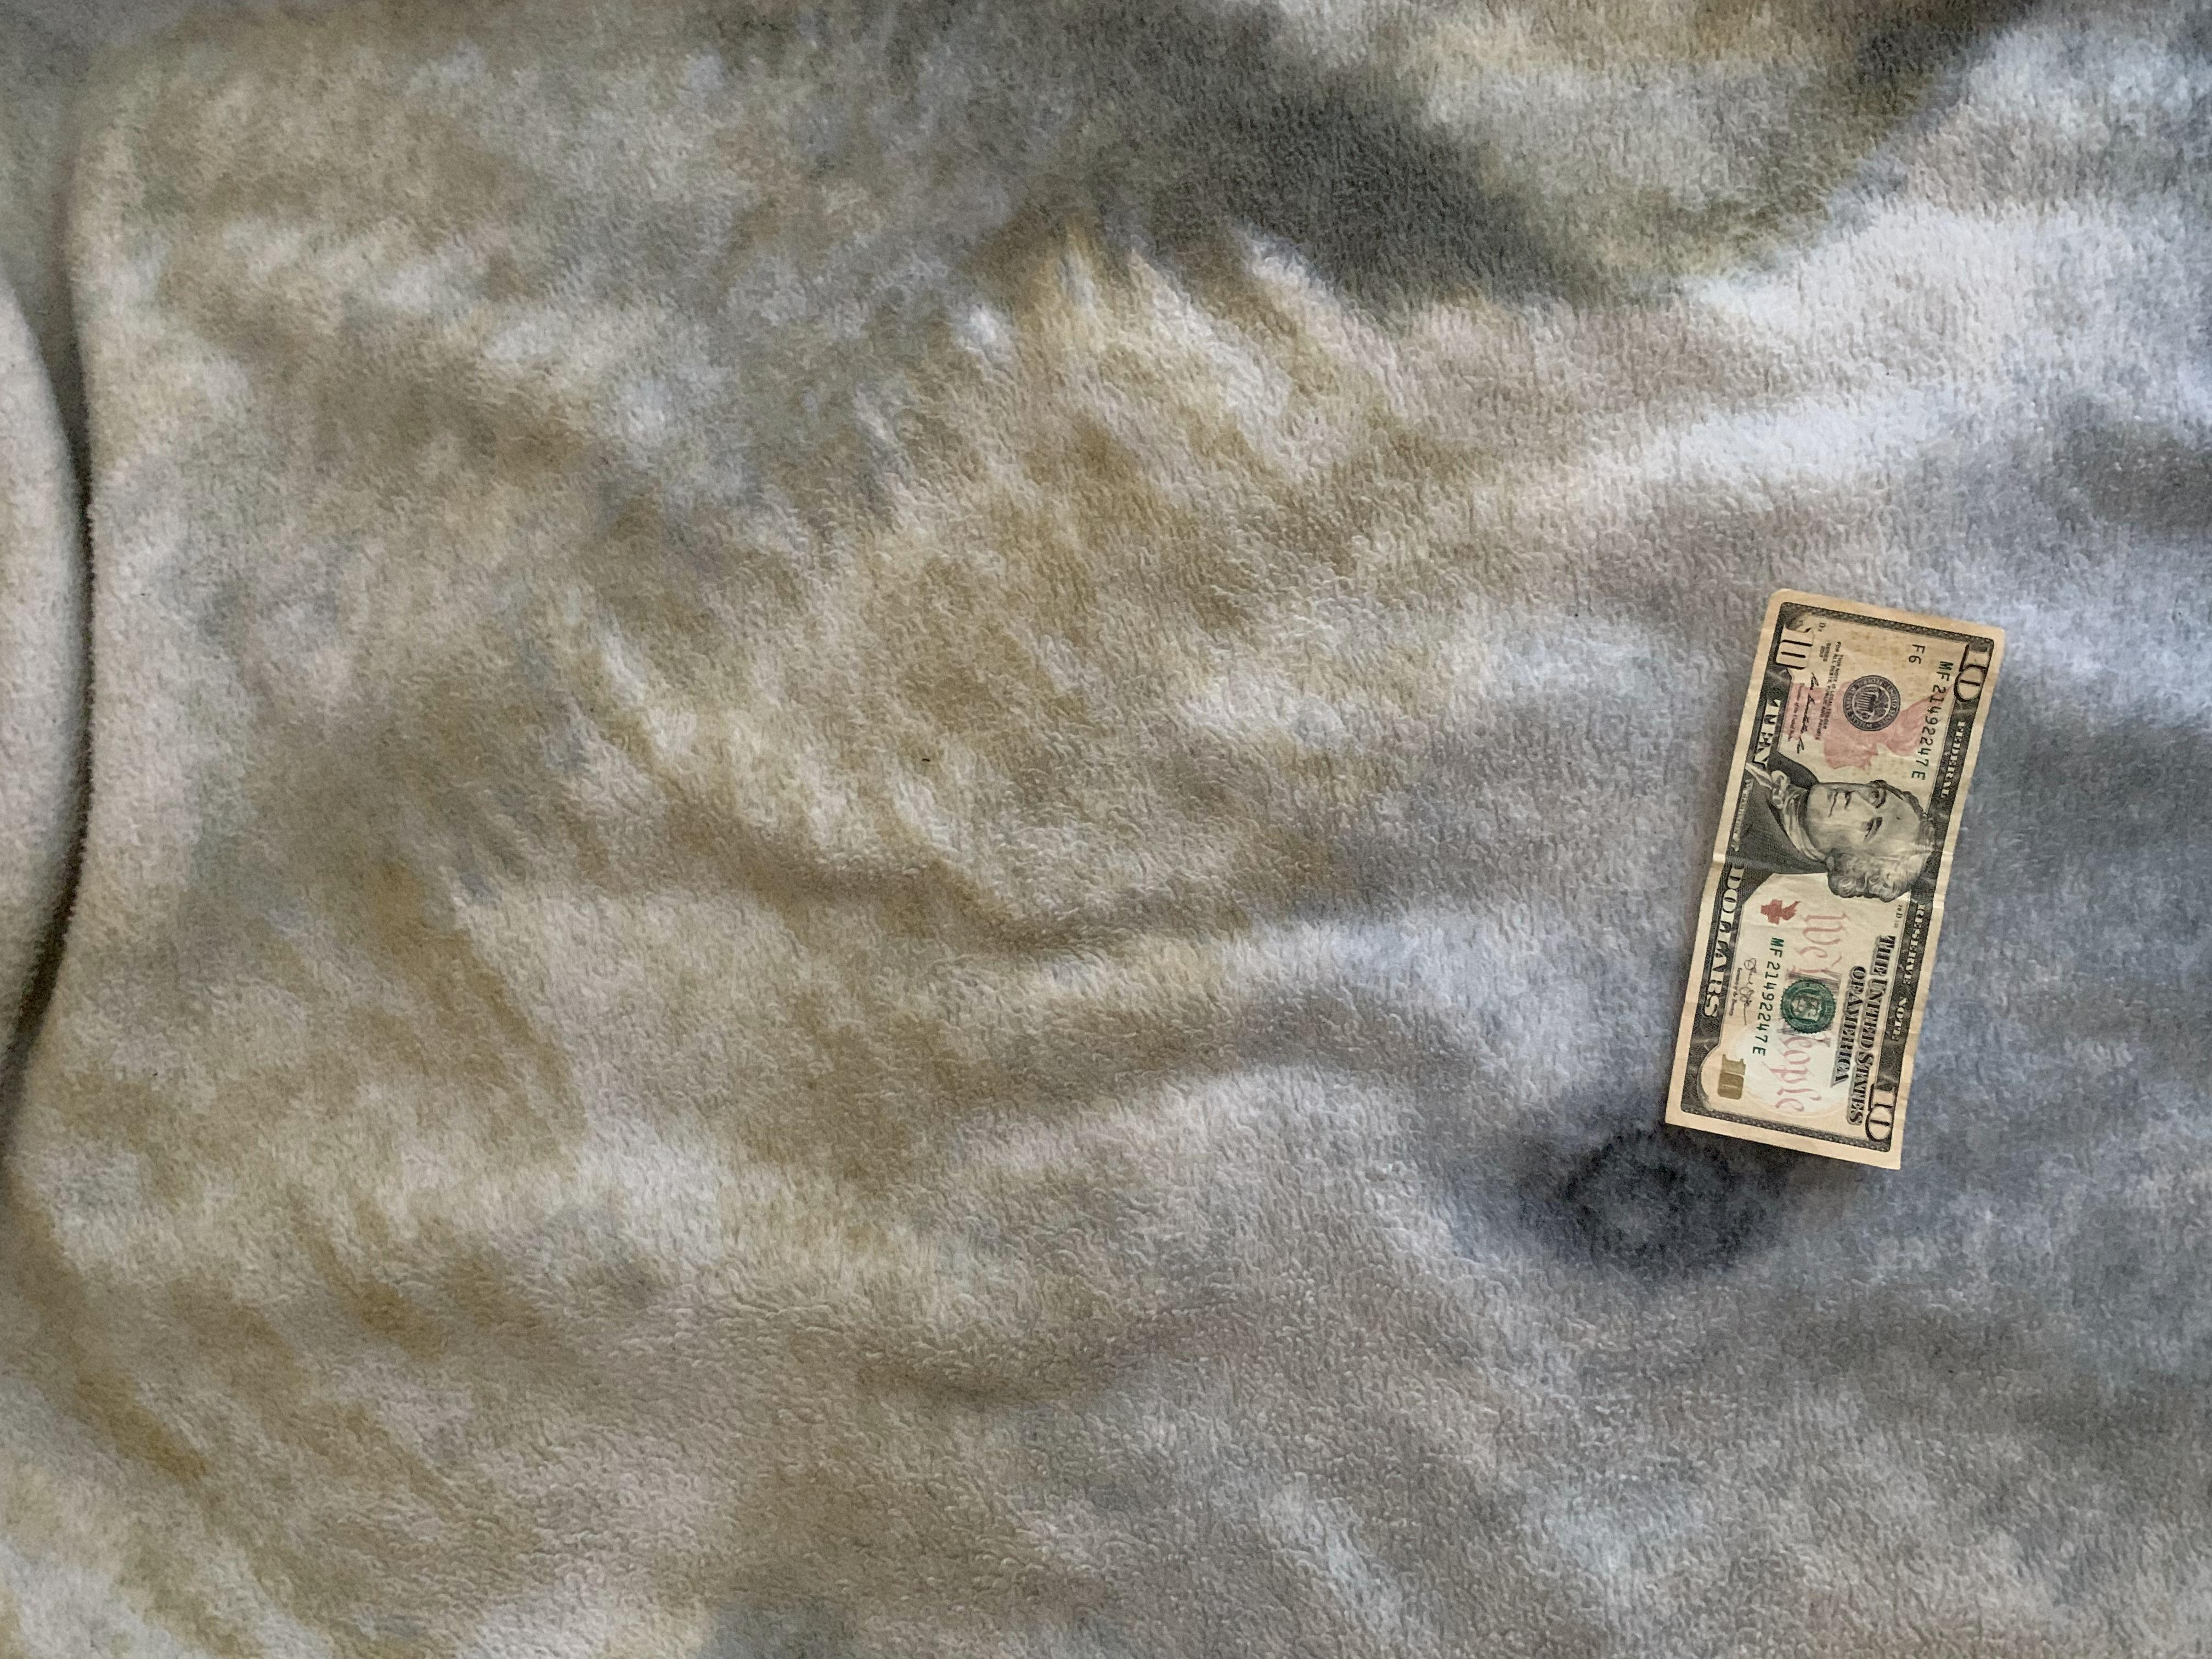TenBill: (1639, 577, 2012, 1175)
